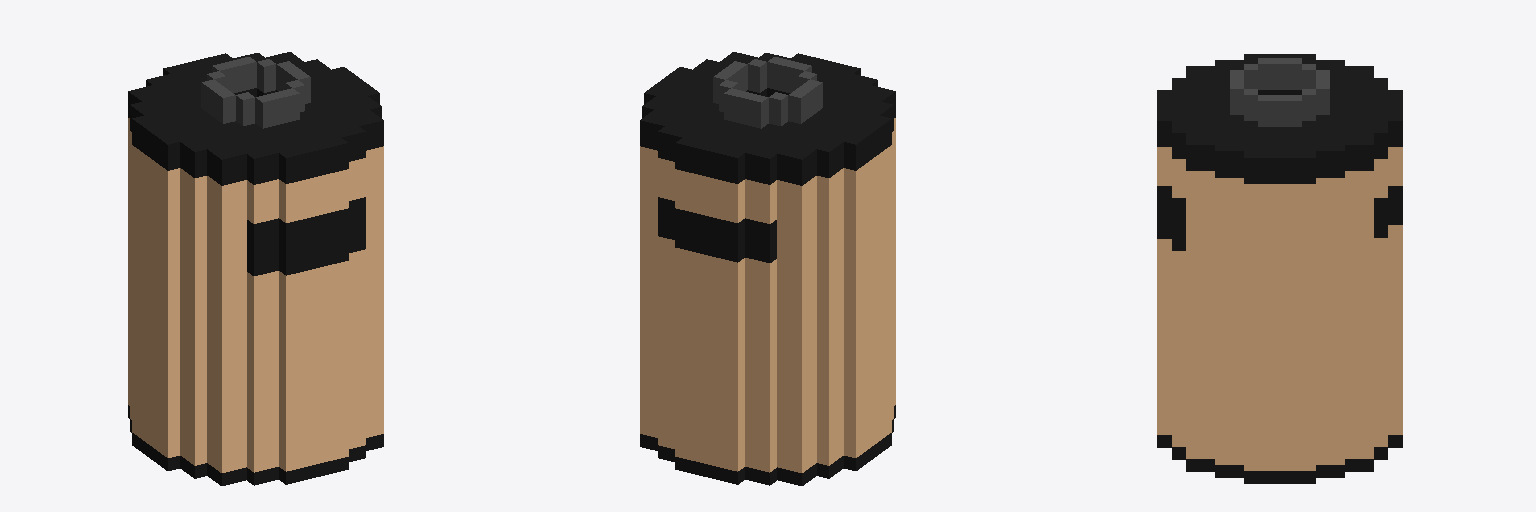
3 renders of one model, left to right at view 1: azimuth 30°, elevation 25°; view 2: azimuth 150°, elevation 25°; view 3: azimuth 270°, elevation 25°, orthographic.
Visible parts, largest first — view 1: object 1; view 2: object 1; view 3: object 1.
Boxes of the visible parts, <box> form: object 1: <box>128,52,383,485</box>; object 1: <box>640,52,895,485</box>; object 1: <box>1157,54,1402,483</box>.
Size of the model in its own units: 1.7 by 2.7 by 1.7.
Materials: 1 (1 with a texture image).